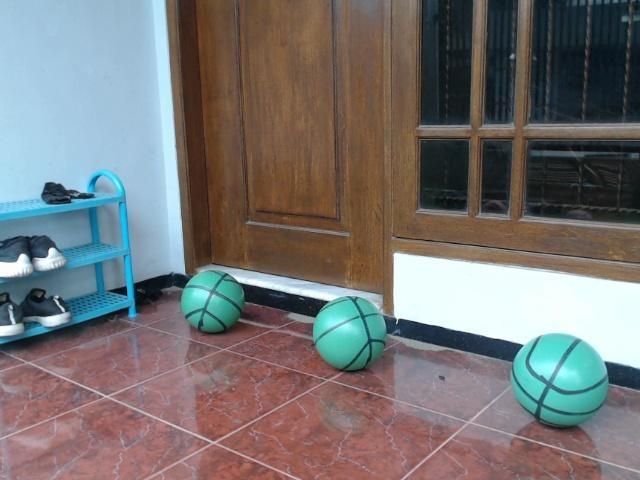Sports-Ball: (516, 334, 611, 433), (309, 288, 388, 377), (181, 266, 251, 338)
